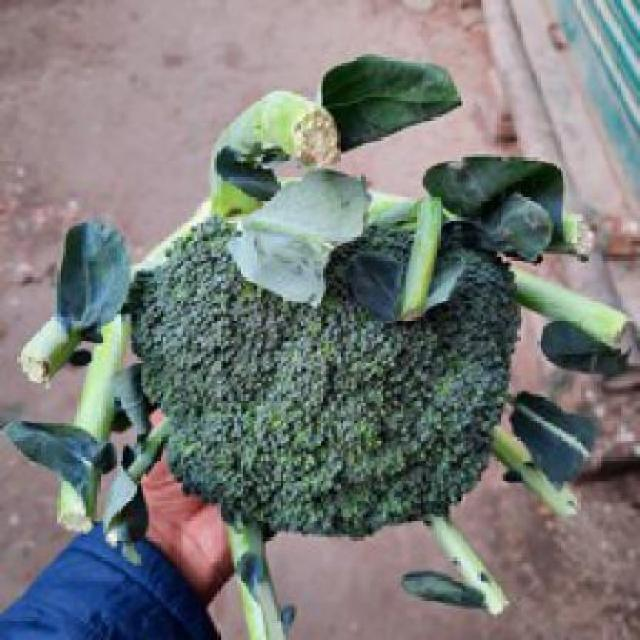broccoli: (149, 111, 540, 580)
